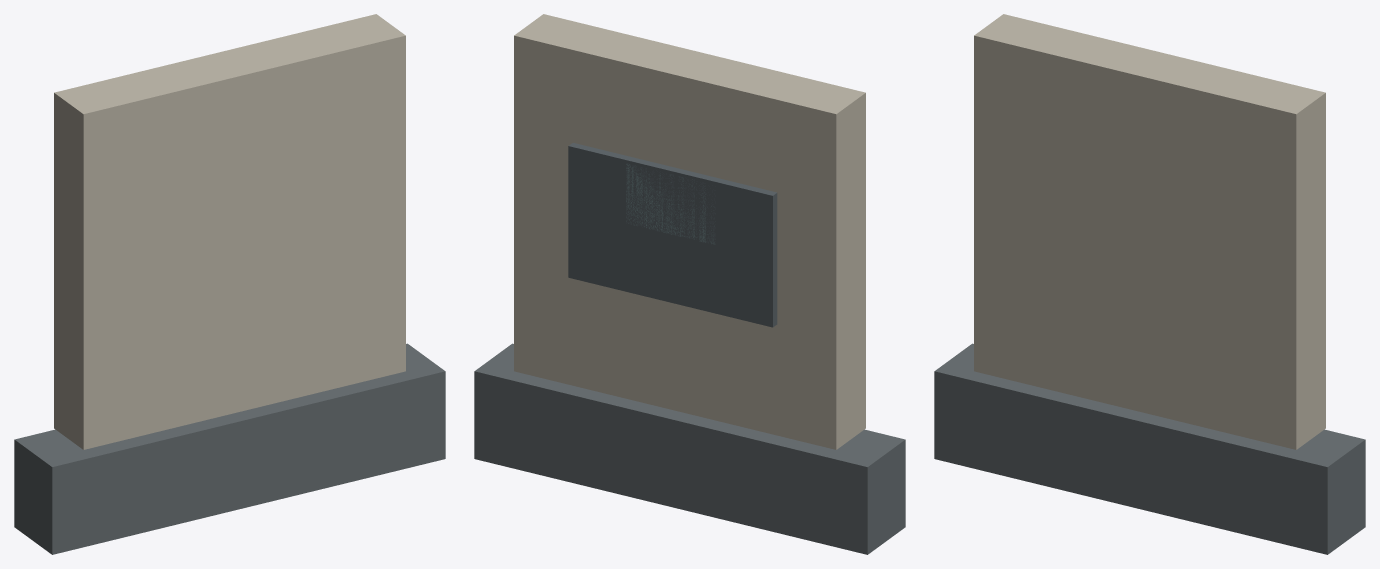
Rendered from iz3_production_toolrack_01.glb.
The picture shows the model from 3 angles, left to right: view 1: azimuth 30°, elevation 25°; view 2: azimuth 150°, elevation 25°; view 3: azimuth 330°, elevation 25°; orthographic projection.
Parts seen in each view (by area): view 1: cabinet, base; view 2: cabinet, base, panel, display; view 3: cabinet, base.
Part boxes in pixels (x1=…): cabinet: x1=54, y1=14, x2=405, y2=449; base: x1=14, y1=343, x2=445, y2=554; cabinet: x1=514, y1=14, x2=865, y2=449; base: x1=474, y1=343, x2=905, y2=554; panel: x1=568, y1=143, x2=777, y2=327; display: x1=626, y1=163, x2=715, y2=244; cabinet: x1=974, y1=14, x2=1325, y2=449; base: x1=934, y1=343, x2=1365, y2=554.
Size of the model in its own units: 1.5 by 1.56 by 0.2525.
